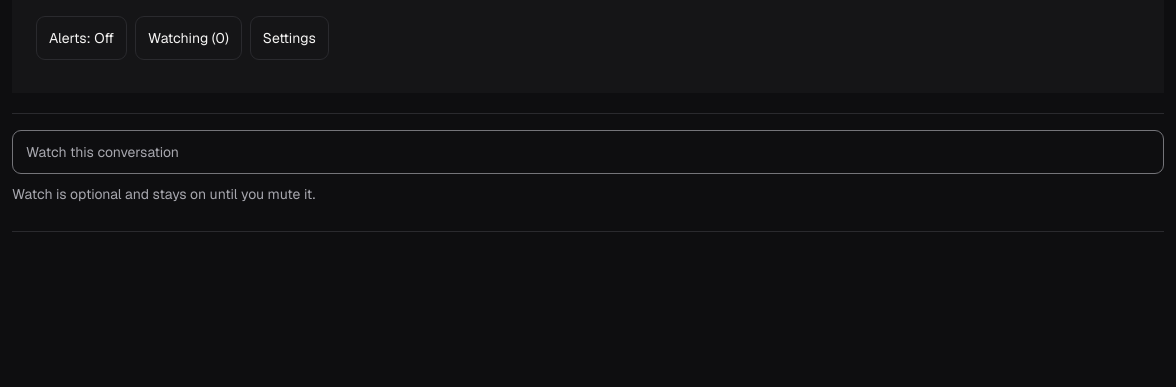
Test: conversation watch UI › starts compact and opens only one control panel at a time
The image size is (1176, 387).
Click the button "Alerts: Off". click: {"x": 82, "y": 38}
box: [36,16,127,60]
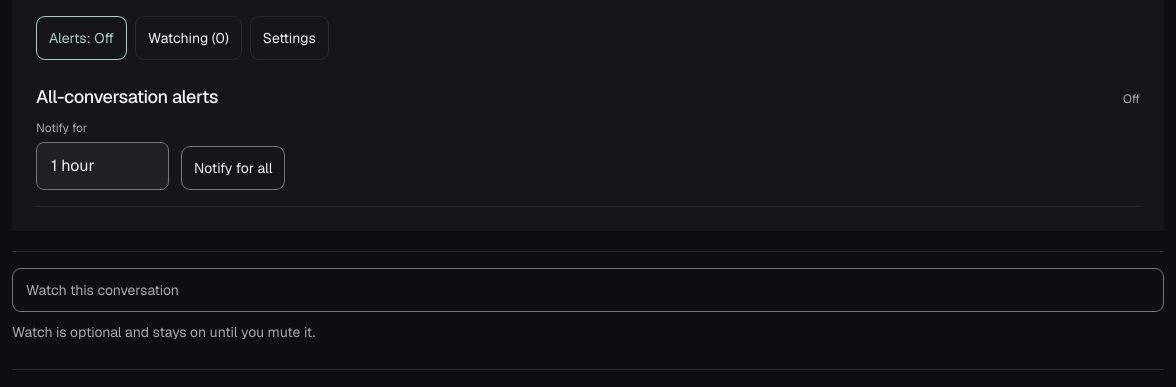
Click the button "Settings". click: {"x": 289, "y": 38}
box: [250,16,329,60]
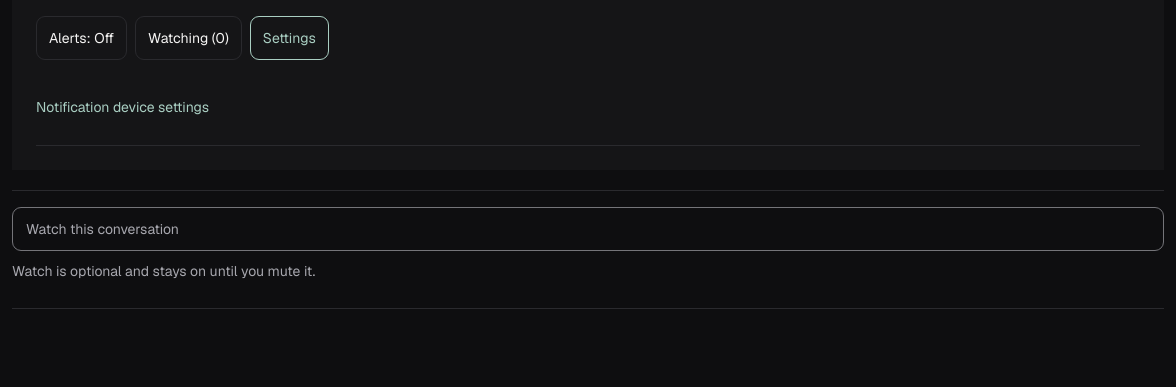
Click the button "Watching (0)". click: {"x": 188, "y": 38}
box: [135,16,242,60]
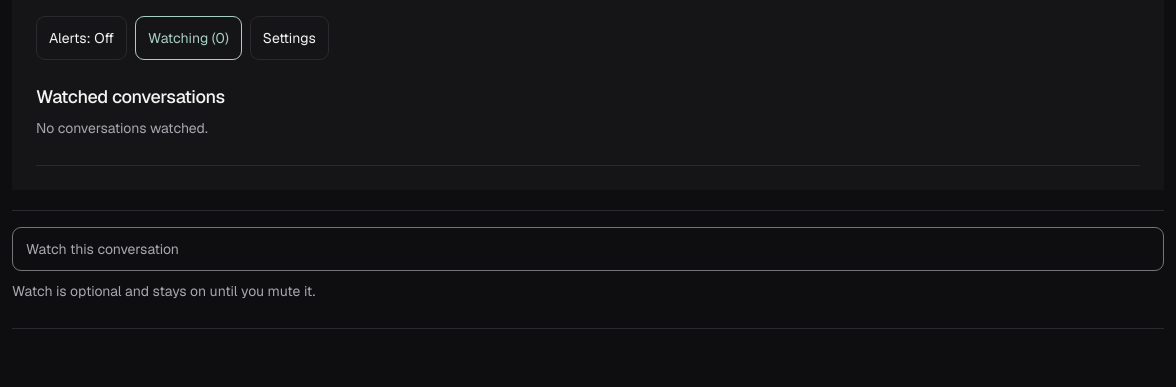
Result: the element with id "watched-conversations" is shown at [36,69,1140,166]
Click the button "Watching (0)". click: {"x": 188, "y": 38}
box: [135,16,242,60]
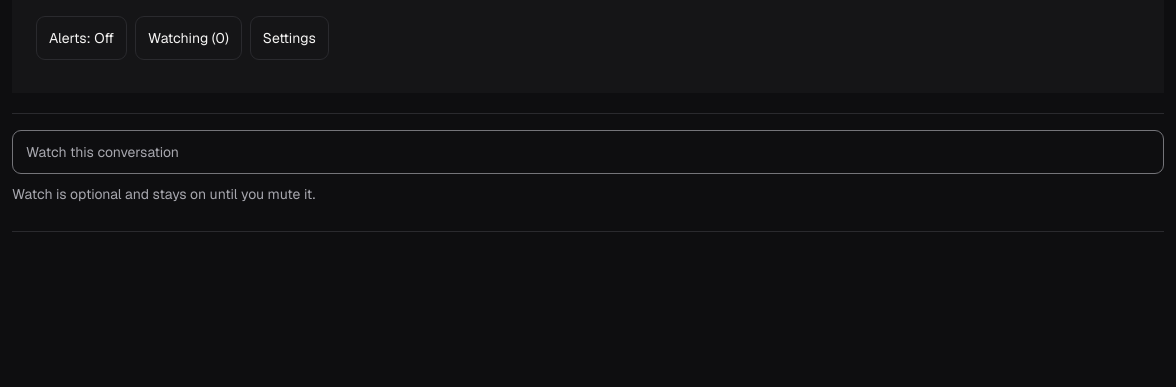
Result: the element with id "watched-conversations" is gone
